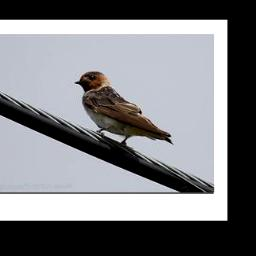Swallow: (74, 69, 177, 149)
